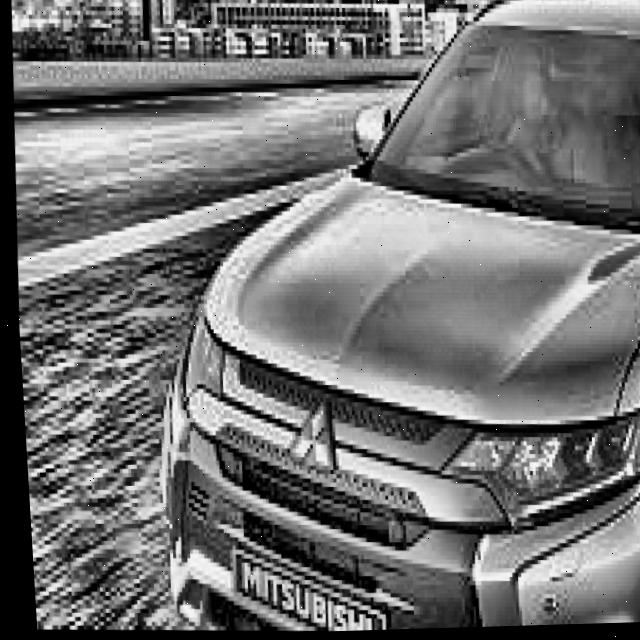light_vehicle: (122, 0, 640, 637)
